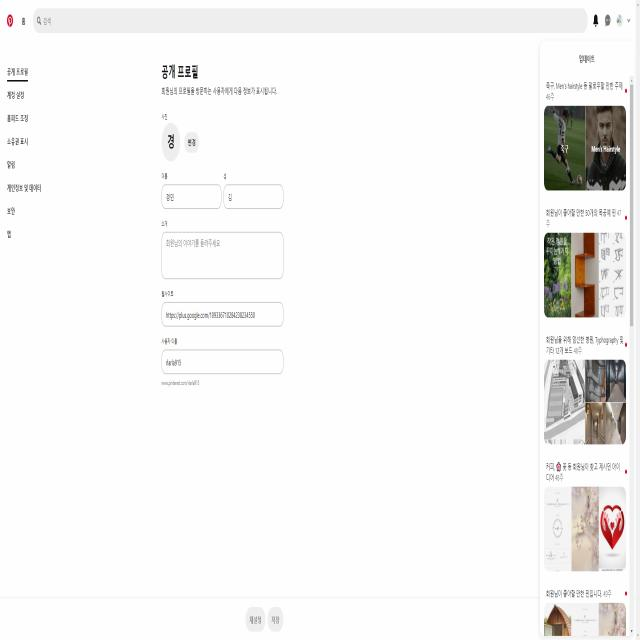menu-bar: (591, 8, 632, 31)
menu-panel: (2, 57, 54, 245)
search: (31, 8, 588, 34)
side-panel: (540, 44, 628, 639)
tab-bar: (4, 7, 28, 38)
